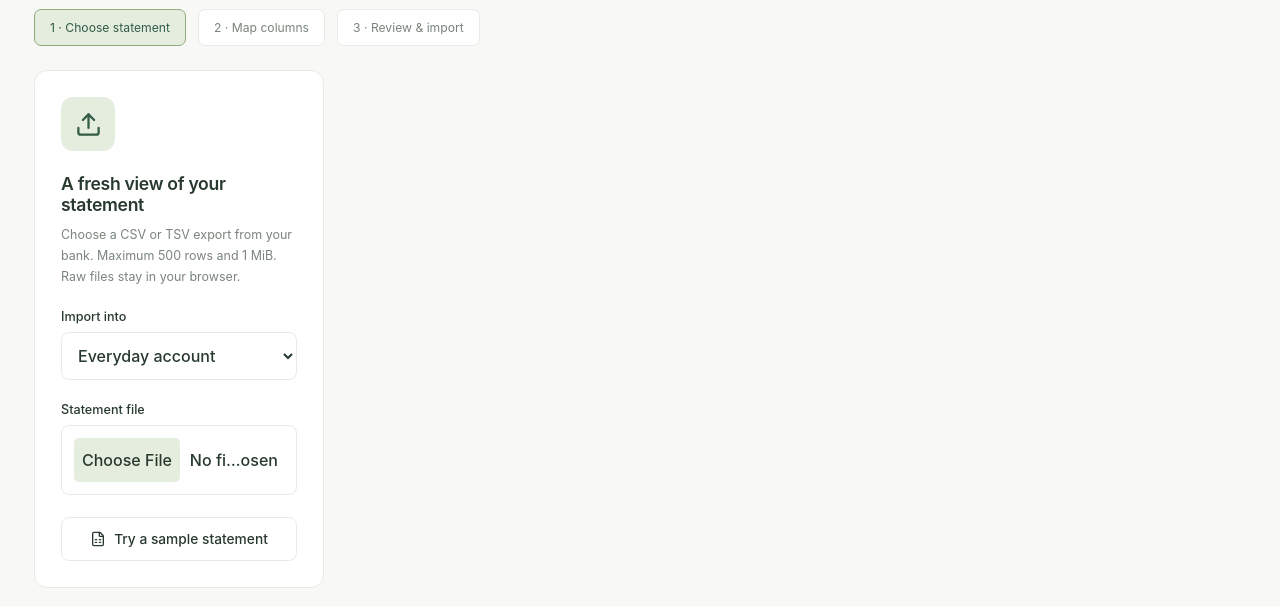
it: statement workflows › maps, reviews and imports a statement while matching the existing salary
(page scrolled)
Click the button "Try a sample statement". click: (179, 539)
box: [61,517,297,561]
(page scrolled)
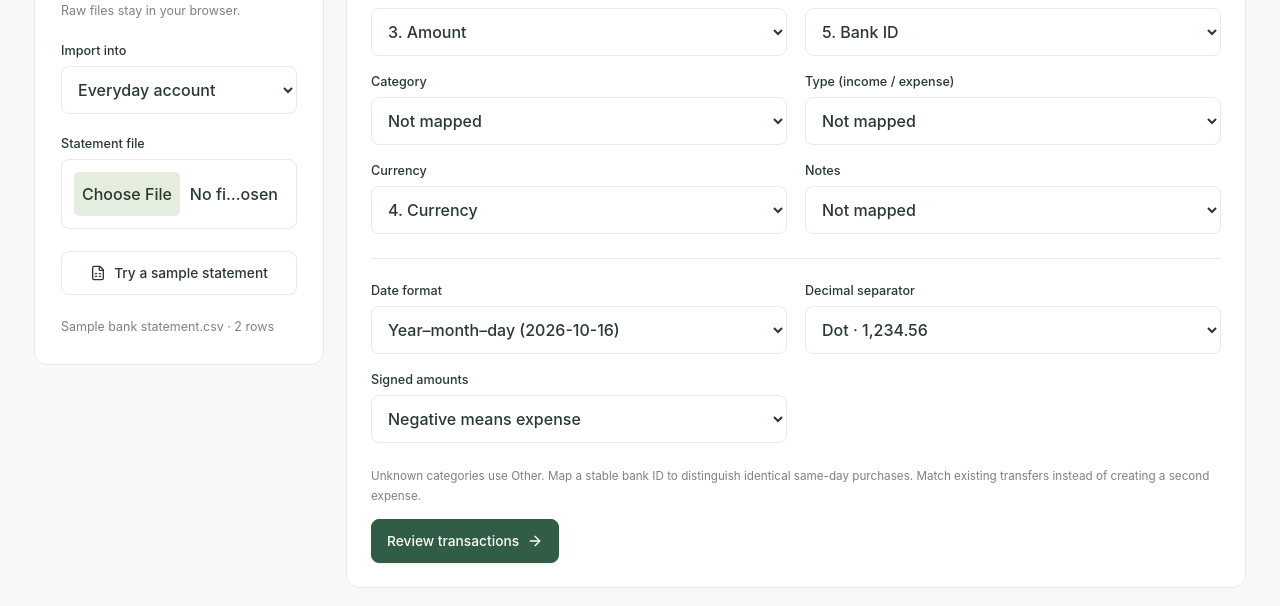
Click the button "Review transactions". click: (465, 541)
box: [371,519,559,563]
(page scrolled)
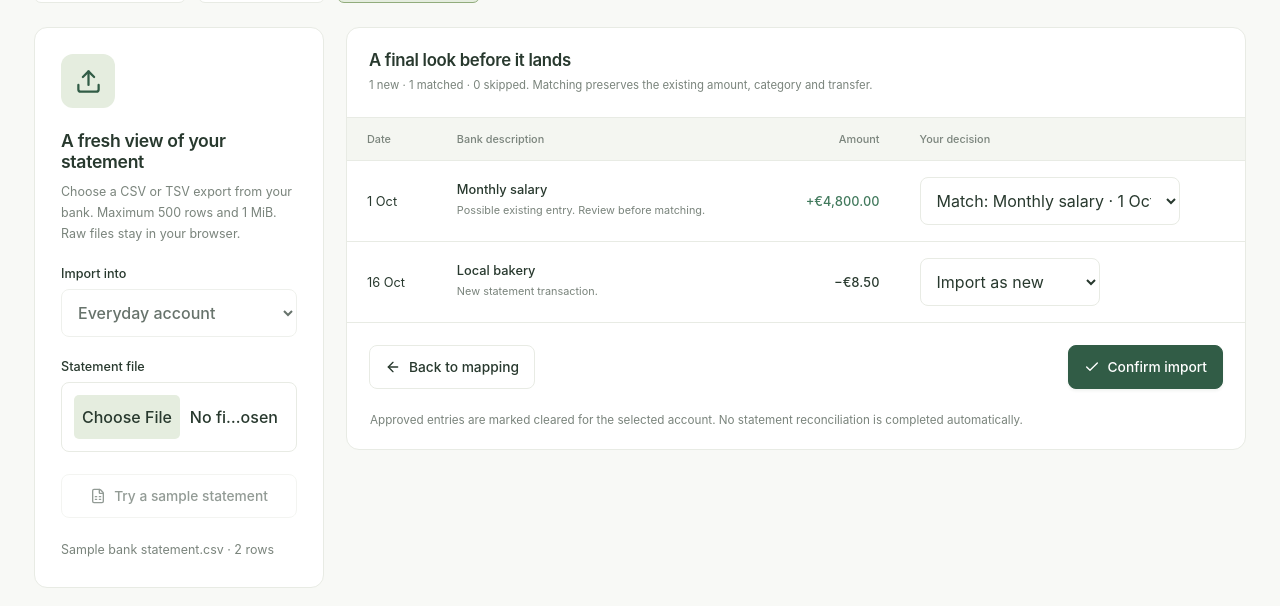
Check: the button "Confirm import" is shown
Click the button "Confirm import". click: (1145, 367)
box: [1068,345,1223,389]
(page scrolled)
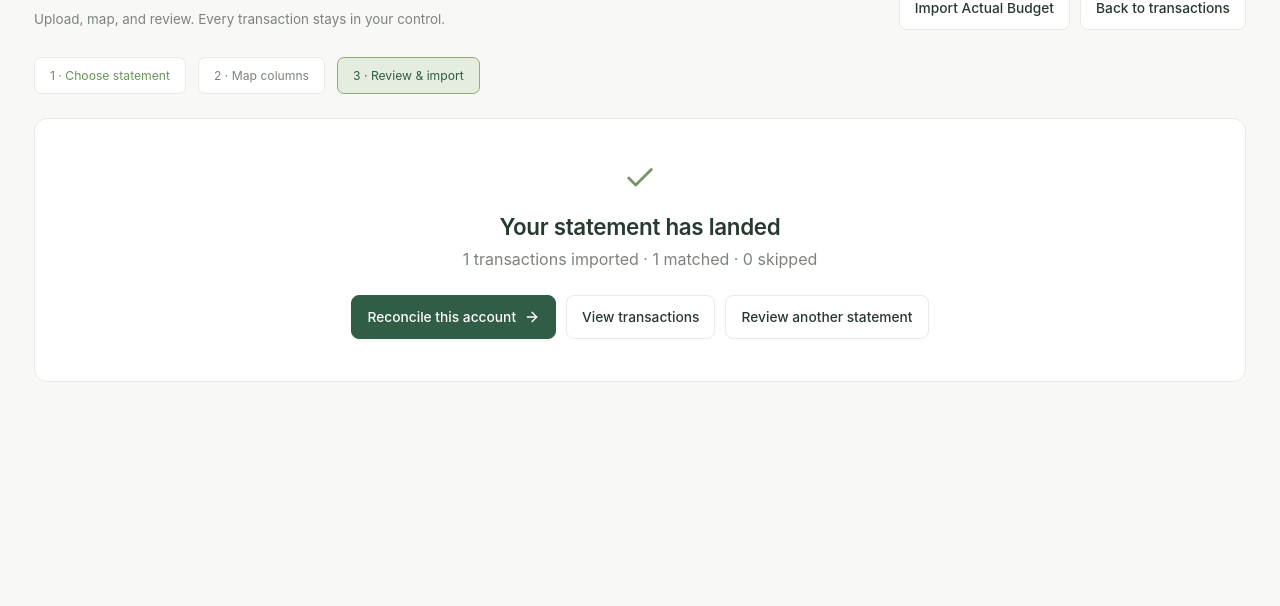
Check: the heading "Your statement has landed" is shown, box [500,214,780,240]
Check: the text "1 transactions imported · 1 matched · 0 skipped" is shown, box [463,250,817,270]
